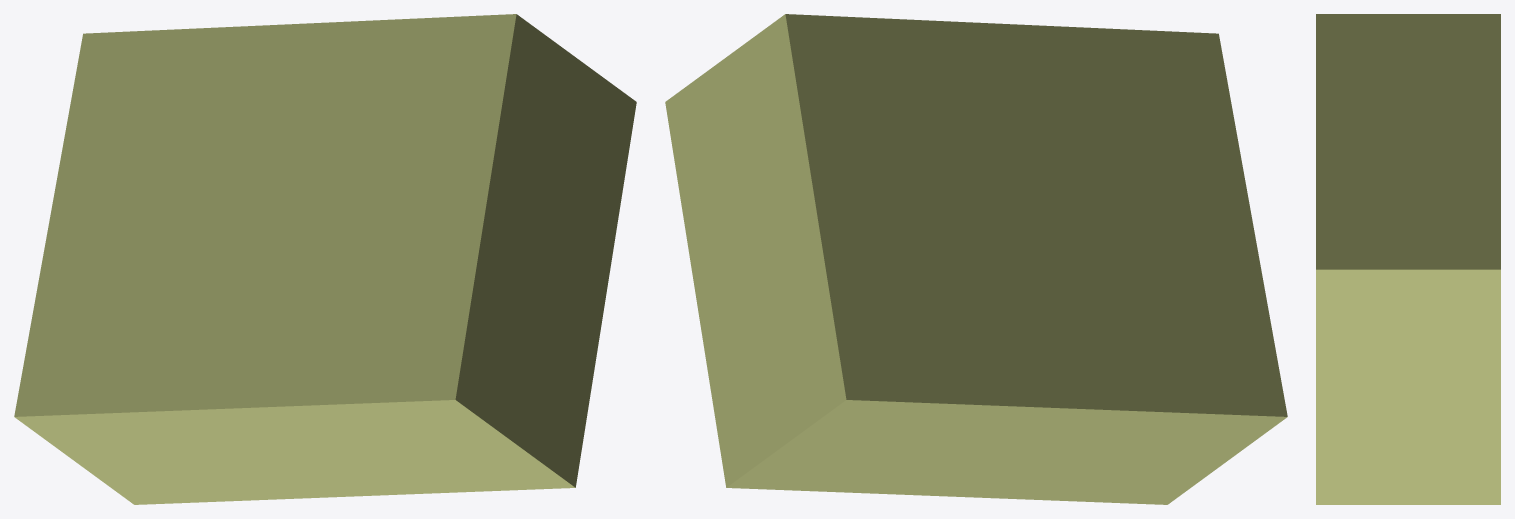
3 views of the same model, side by side, from view 1: azimuth 30°, elevation 25°; view 2: azimuth 150°, elevation 25°; view 3: azimuth 270°, elevation 25° (orthographic). The views are drawn at different scales.
Parts seen in each view (by area): view 1: 0_2_1_0_0_0_0_0_0_3; view 2: 0_2_1_0_0_0_0_0_0_3; view 3: 0_2_1_0_0_0_0_0_0_3.
Part boxes in pixels (<box>): 0_2_1_0_0_0_0_0_0_3: <box>14,14,636,504</box>; 0_2_1_0_0_0_0_0_0_3: <box>665,14,1287,504</box>; 0_2_1_0_0_0_0_0_0_3: <box>1316,14,1500,504</box>.
Size of the model in its own units: 14.47 by 12.58 by 6.
